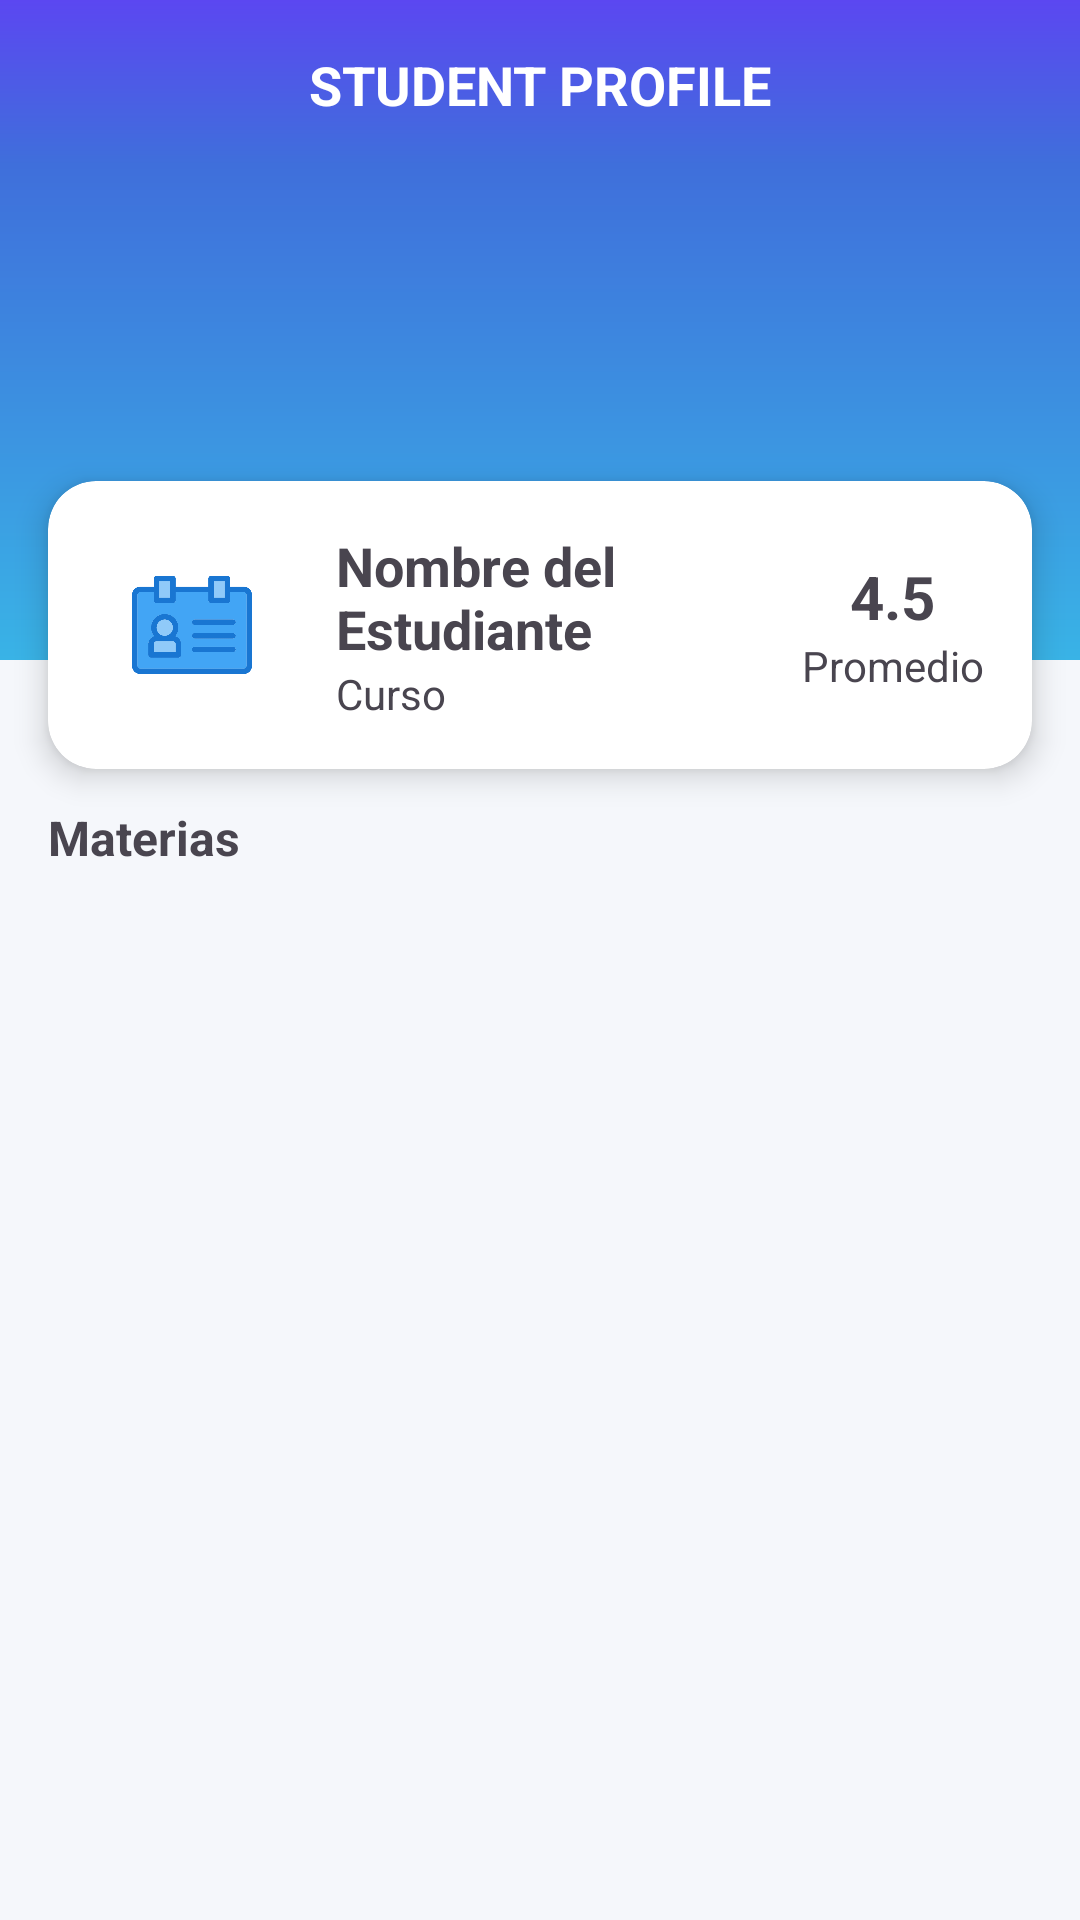

Icon click points for this 1080px×1920px phone screenshot, format point (x, y):
carnet: point (192, 625)
